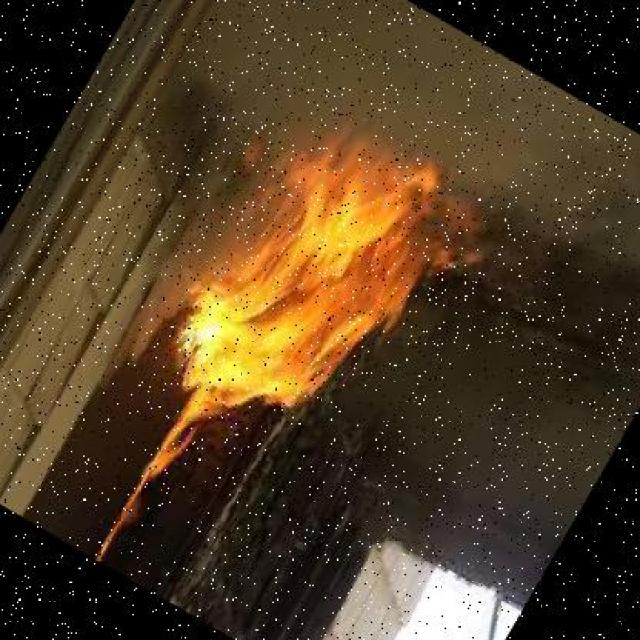fire: (128, 77, 517, 501)
